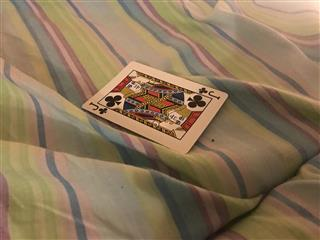JackOfClubs: (80, 60, 228, 153)
